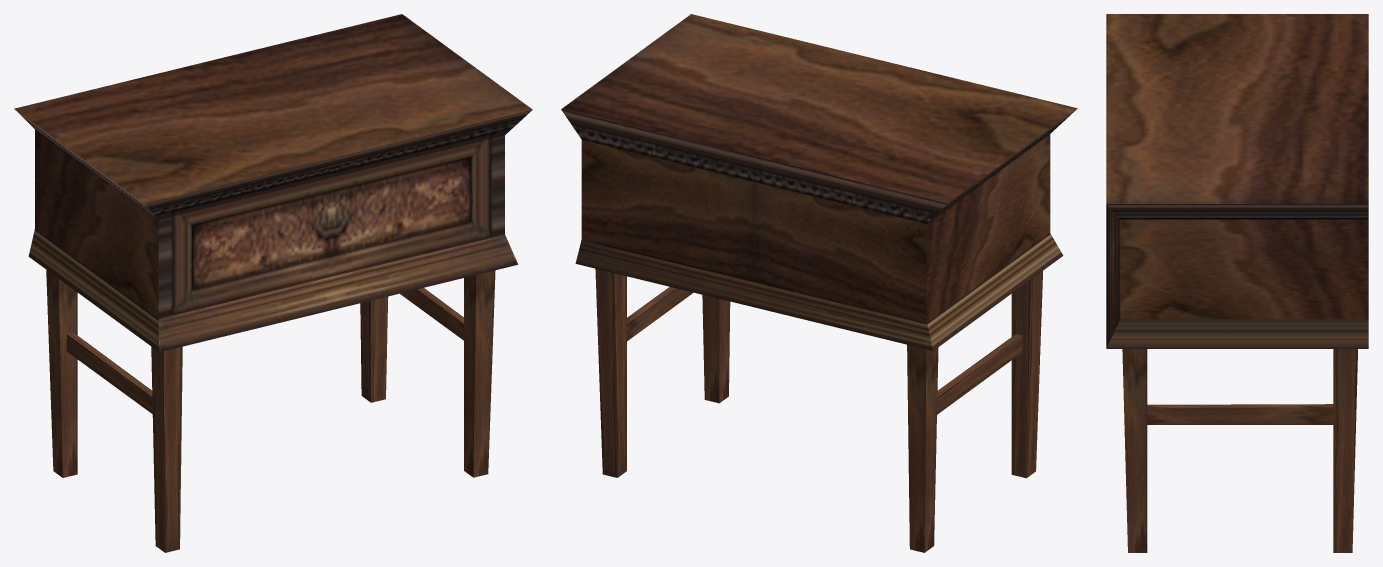
Rendered from Table05.glb.
3 renders of one model, left to right at view 1: azimuth 30°, elevation 25°; view 2: azimuth 150°, elevation 25°; view 3: azimuth 270°, elevation 25°, orthographic.
Parts seen in each view (by area): view 1: _Table05; view 2: _Table05; view 3: _Table05.
Part boxes in pixels (x1=…): _Table05: x1=14, y1=14, x2=532, y2=552; _Table05: x1=561, y1=14, x2=1077, y2=552; _Table05: x1=1106, y1=14, x2=1368, y2=552.
Size of the model in its own units: 1.17 by 1.05 by 0.6823.
1 material, 1 textured.
